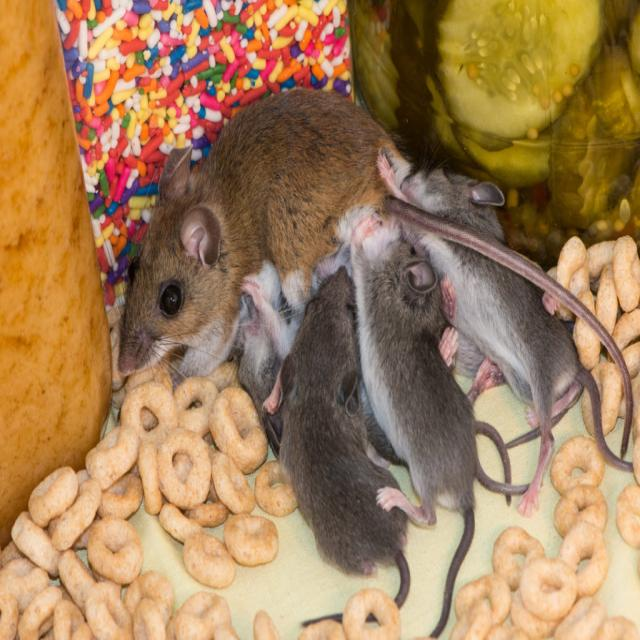rat: (76, 81, 472, 392), (402, 143, 639, 508), (338, 200, 488, 524), (285, 260, 400, 591)
